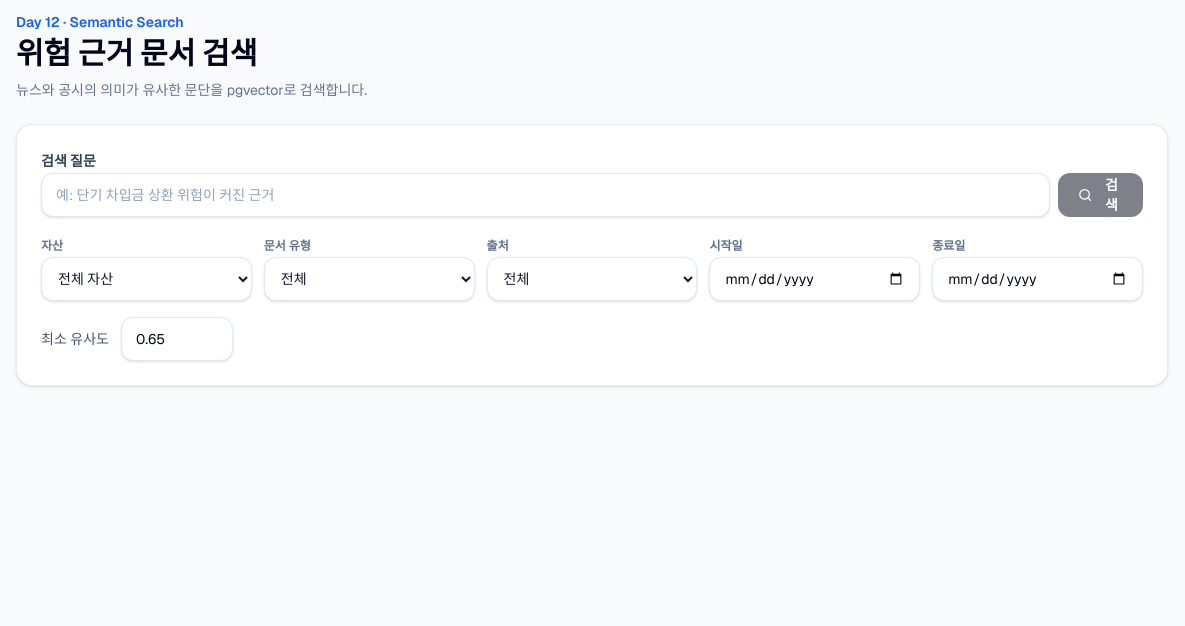
Test: RagSearchWorkbench › does not invent a source link when sourceUrl is absent
Type "만기" into the field named "RAG 검색 질문" at point(545, 195), box [41,173,1050,217]
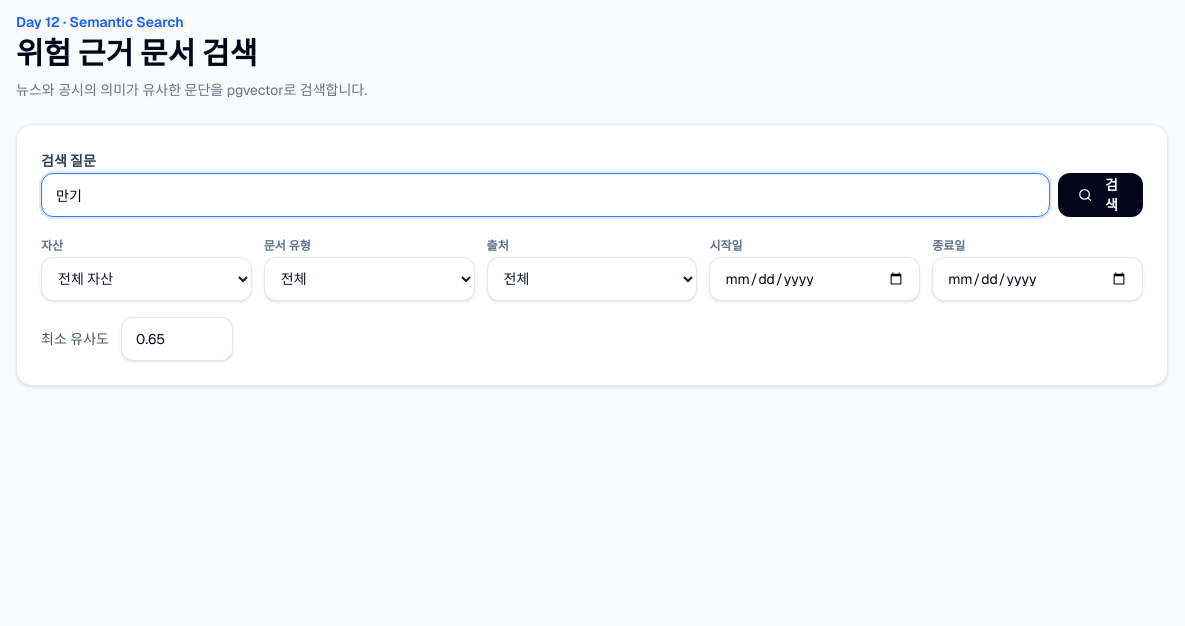
Click the button "검색" at point(1100, 195), box [1058,173,1143,217]
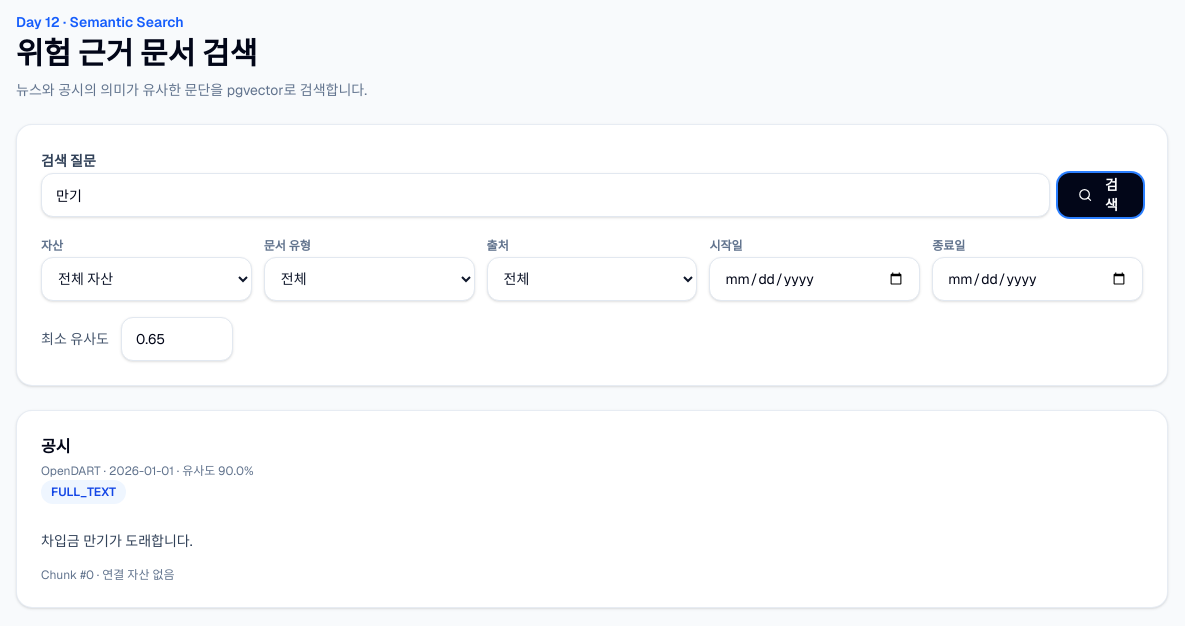
Check: the text "차입금 만기가 도래합니다." is shown, box [41,532,192,550]
